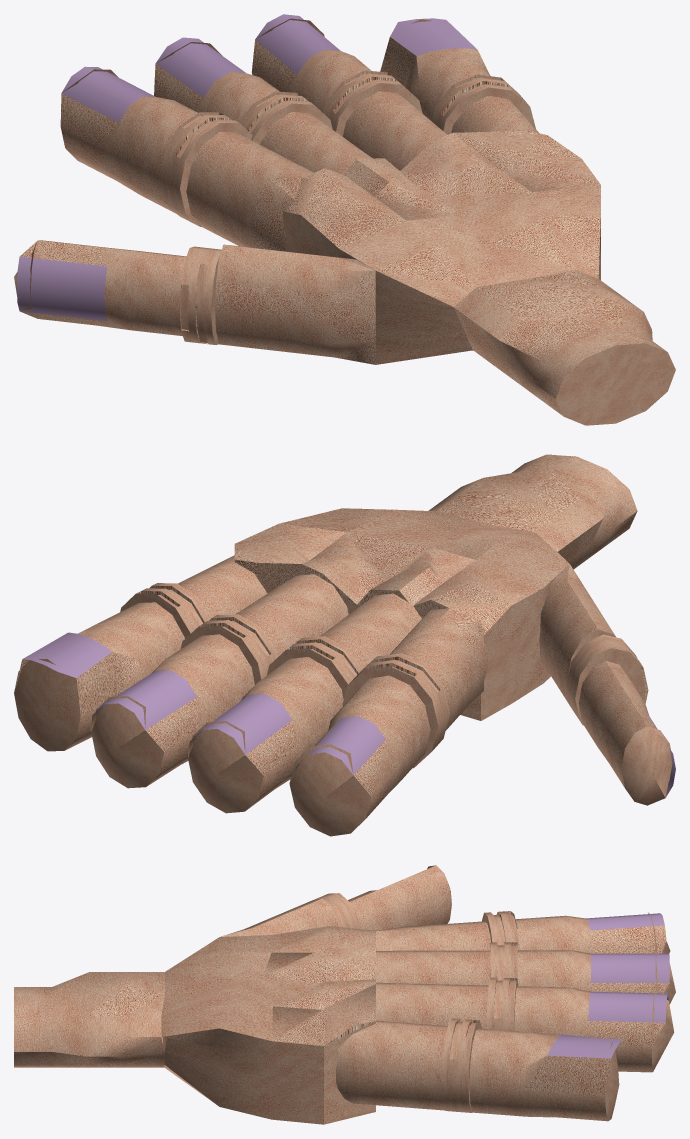
The model's file is Рука новая2.0 Бери её.fbx.
3 views of the same model, one above another, from view 1: azimuth 30°, elevation 25°; view 2: azimuth 150°, elevation 25°; view 3: azimuth 270°, elevation 25° (orthographic). The views are drawn at different scales.
Visible parts, largest first — view 1: Объект_Куб, Объект_Цилиндр, Объект_Цилиндр_1, Объект_Цилиндр_2, Объект_Цилиндр_5, Объект_Цилиндр_4, Объект_Цилиндр_14, Объект_Цилиндр_8, Объект_Цилиндр_11, Объект_Цилиндр_13, Объект_Цилиндр_12, Объект_Цилиндр_16 (+5 smaller); view 2: Объект_Куб, Объект_Цилиндр_11, Объект_Цилиндр_14, Объект_Цилиндр_5, Объект_Цилиндр_8, Объект_Цилиндр, Объект_Цилиндр_2, Объект_Цилиндр_4, Объект_Цилиндр_13, Объект_Цилиндр_1, Объект_Цилиндр_12, Объект_Цилиндр_16 (+5 smaller); view 3: Объект_Куб, Объект_Цилиндр, Объект_Цилиндр_8, Объект_Цилиндр_14, Объект_Цилиндр_7, Объект_Цилиндр_11, Объект_Цилиндр_5, Объект_Цилиндр_2, Объект_Цилиндр_13, Объект_Цилиндр_12, Объект_Цилиндр_4, Объект_Цилиндр_9 (+5 smaller).
Part boxes in pixels (x1,y1,x2,y2): Объект_Куб: [283, 128, 600, 364]; Объект_Цилиндр: [454, 270, 675, 425]; Объект_Цилиндр_1: [215, 244, 375, 364]; Объект_Цилиндр_2: [14, 240, 186, 336]; Объект_Цилиндр_5: [60, 66, 197, 213]; Объект_Цилиндр_4: [186, 132, 313, 251]; Объект_Цилиндр_14: [251, 14, 371, 112]; Объект_Цилиндр_8: [380, 18, 490, 120]; Объект_Цилиндр_11: [154, 37, 279, 122]; Объект_Цилиндр_13: [343, 91, 447, 170]; Объект_Цилиндр_12: [259, 112, 372, 175]; Объект_Цилиндр_16: [159, 112, 252, 226]; Объект_Куб: [234, 508, 569, 720]; Объект_Цилиндр_11: [188, 657, 343, 813]; Объект_Цилиндр_14: [91, 634, 254, 788]; Объект_Цилиндр_5: [289, 675, 430, 836]; Объект_Цилиндр_8: [14, 602, 184, 751]; Объект_Цилиндр: [428, 454, 637, 569]; Объект_Цилиндр_2: [578, 661, 675, 805]; Объект_Цилиндр_4: [390, 606, 488, 730]; Объект_Цилиндр_13: [236, 574, 348, 657]; Объект_Цилиндр_1: [539, 564, 615, 725]; Объект_Цилиндр_12: [320, 593, 421, 669]; Объект_Цилиндр_16: [342, 653, 449, 768]; Объект_Куб: [161, 926, 375, 1124]; Объект_Цилиндр: [14, 972, 164, 1067]; Объект_Цилиндр_8: [469, 1028, 622, 1121]; Объект_Цилиндр_14: [514, 986, 674, 1072]; Объект_Цилиндр_7: [336, 1020, 447, 1110]; Объект_Цилиндр_11: [518, 950, 675, 1004]; Объект_Цилиндр_5: [515, 912, 670, 953]; Объект_Цилиндр_2: [348, 865, 451, 930]; Объект_Цилиндр_13: [376, 982, 488, 1028]; Объект_Цилиндр_12: [376, 950, 490, 985]; Объект_Цилиндр_4: [372, 921, 490, 950]; Объект_Цилиндр_9: [441, 1018, 481, 1112].
Bounding box in the file's own units: 506 × 111 × 635.
2 materials, 1 textured.
